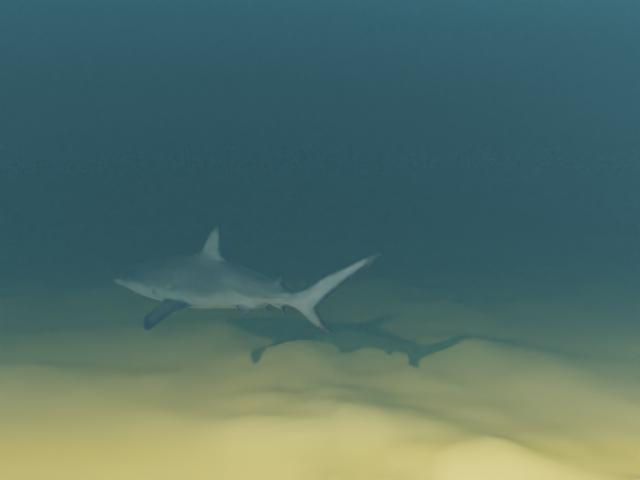Carribean Shark.001: (113, 224, 382, 334)
